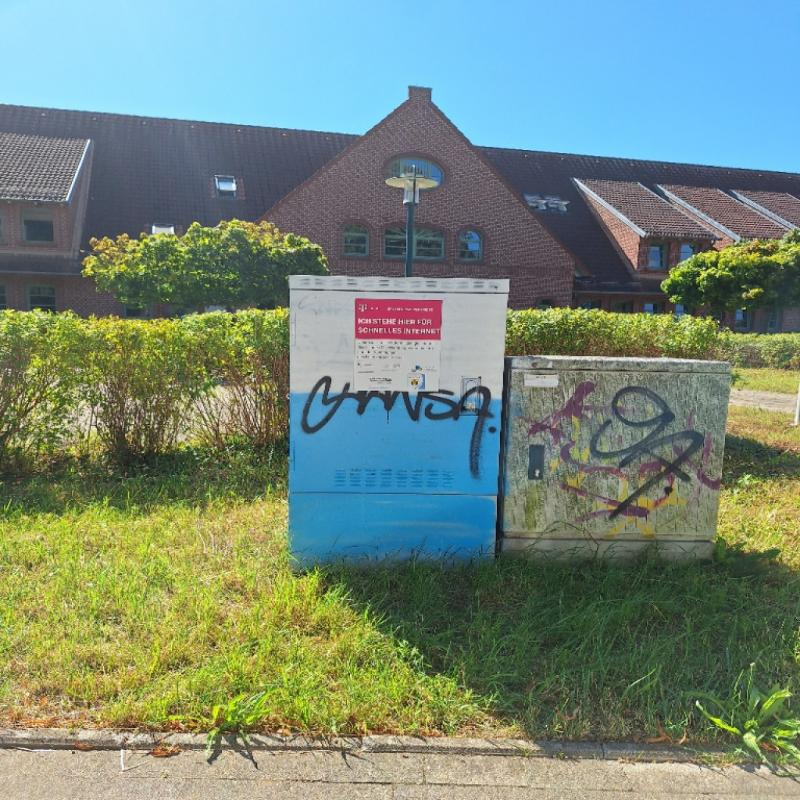NT-Gehause: (289, 277, 503, 562)
Steaker: (353, 296, 442, 389)
